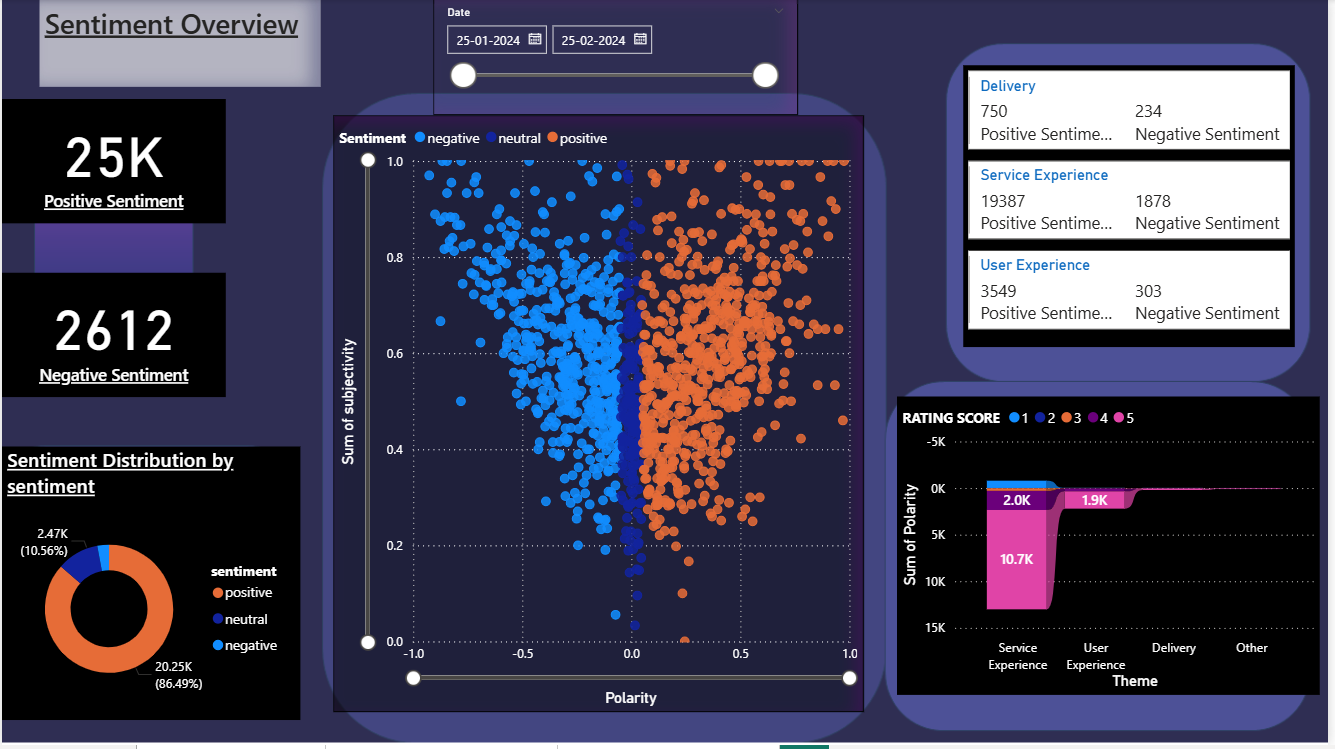

This screenshot's page, from the dashboard's own definition file:
{"tool":"powerbi","page":{"name":"Sentiment Overview","canvas":[1280,720],"ordinal":0},"visuals":[{"type":"card","fields":{"Values":["Sheet1.PositiveSentimentCount"]},"box":[0,96,216,120],"z":0},{"type":"card","fields":{"Values":["Sheet1.NegativeSentimentCount"]},"box":[0,264,216,120],"z":1000},{"type":"donutChart","fields":{"Y":["Sum(Sheet1.sentiment_score)"],"Category":["Sheet1.sentiment"]},"box":[0,432,288,264],"z":2000},{"type":"columnChart","fields":{"Category":["Sheet1.Theme"],"Y":["Sum(Sheet1.polarity)"],"Series":["Sheet1.RATING SCORE"]},"box":[864,384,408,288],"z":3000},{"type":"multiRowCard","fields":{"Values":["Sheet1.Theme","Sheet1.PositiveSentimentCount","Sheet1.NegativeSentimentCount"]},"box":[928,64,320,272],"z":4000},{"type":"scatterChart","fields":{"X":["Sum(Sheet1.polarity)"],"Y":["Sum(Sheet1.subjectivity)"],"Series":["Sheet1.sentiment"]},"box":[320,112,512,576],"z":5000},{"type":"slicer","fields":{"Values":["Sheet1.date"]},"box":[416,0,352,112],"z":6000},{"type":"textbox","box":[36.2,0,271.4,84.5],"z":7000}]}

Visuals, with their boxes in screenshot pixels (x1, y1, x2, y2), scaled from the page's 1280x720 canvas onto the 1335x749 screenshot:
card - Sheet1.PositiveSentimentCount: 0:100:225:225
card - Sheet1.NegativeSentimentCount: 0:275:225:399
donutChart - Sum(Sheet1.sentiment_score) x Sheet1.sentiment: 0:449:300:724
columnChart - Sheet1.Theme x Sum(Sheet1.polarity): 901:399:1327:699
multiRowCard - Sheet1.Theme x Sheet1.PositiveSentimentCount: 968:67:1302:350
scatterChart - Sum(Sheet1.polarity) x Sum(Sheet1.subjectivity): 334:117:868:716
slicer - Sheet1.date: 434:0:801:117
textbox: 38:0:321:88
